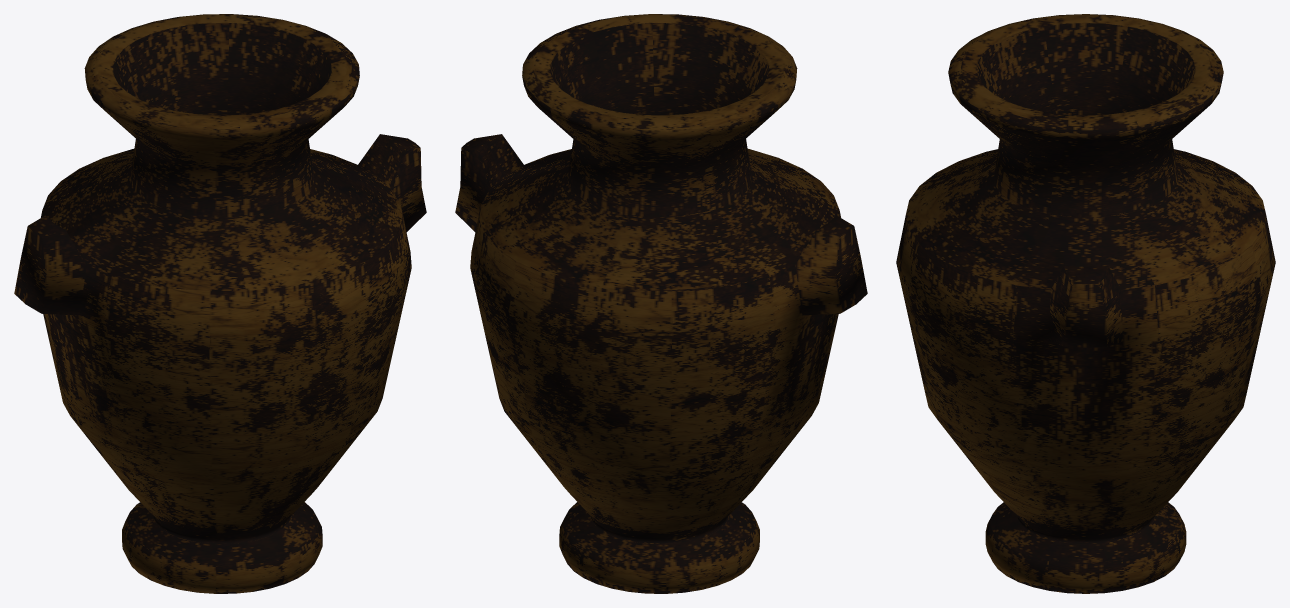
The model's file is Potery.fbx.
The picture shows the model from 3 angles, left to right: view 1: azimuth 30°, elevation 25°; view 2: azimuth 150°, elevation 25°; view 3: azimuth 270°, elevation 25°; orthographic projection.
Parts seen in each view (by area): view 1: Cylinder; view 2: Cylinder; view 3: Cylinder.
Part boxes in pixels (bbox=[...]): Cylinder: bbox=[14, 14, 426, 593]; Cylinder: bbox=[455, 14, 867, 593]; Cylinder: bbox=[896, 14, 1275, 593].
Bounding box in the file's own units: 352 × 417 × 295.
1 material, 1 textured.
